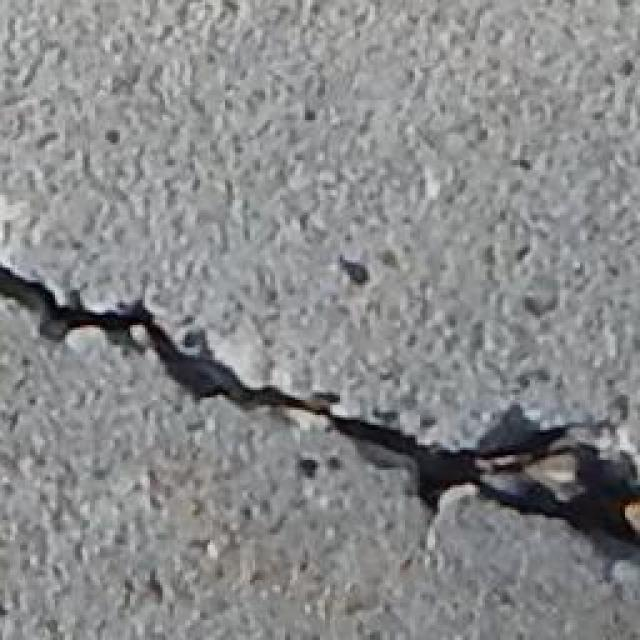concrete-crack: (0, 254, 640, 586)
